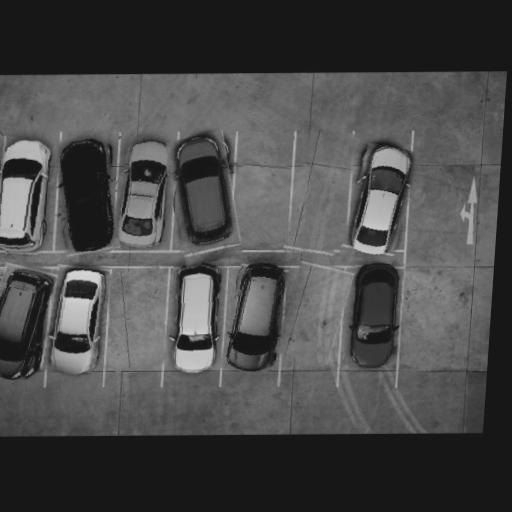busy: (164, 132, 244, 265), (51, 134, 123, 257), (343, 145, 416, 263), (42, 263, 108, 374), (223, 261, 287, 372), (111, 137, 172, 248), (0, 136, 53, 262), (0, 260, 53, 381), (346, 262, 404, 368), (168, 260, 224, 369)
free: (287, 128, 356, 257), (277, 261, 351, 363), (232, 132, 293, 248), (103, 267, 171, 371)
